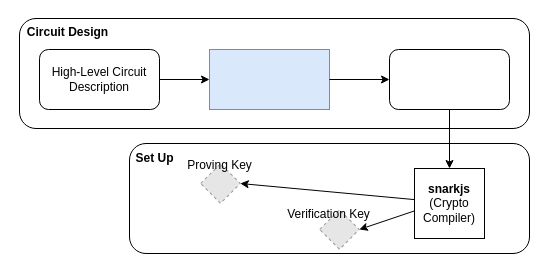
This 547x271 diagram has some shape labels left out. Grey dashed boxes stand in for pictures. The shapes that lost their labels are listed below. From the top down, each one's centre as x and y in pixels, then its label:
At pixel 269 79: "Circom (Circuit Compiler)".
At pixel 449 79: "Low-Level Circuit Description".
